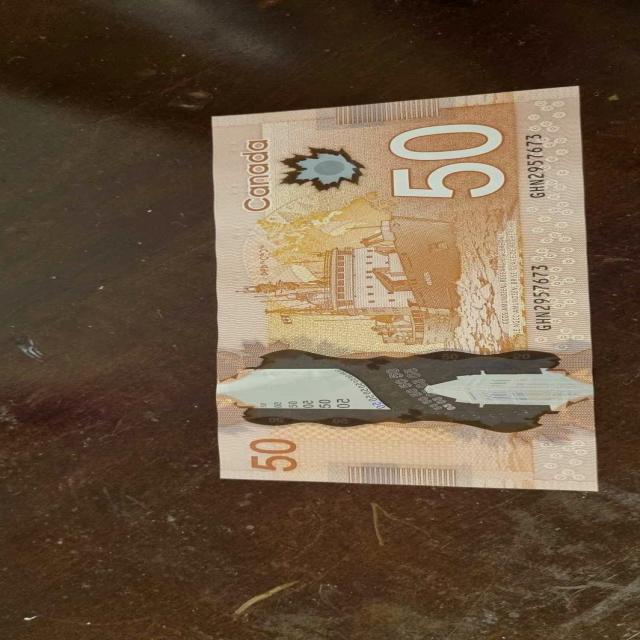50 cad: (203, 86, 585, 500)
